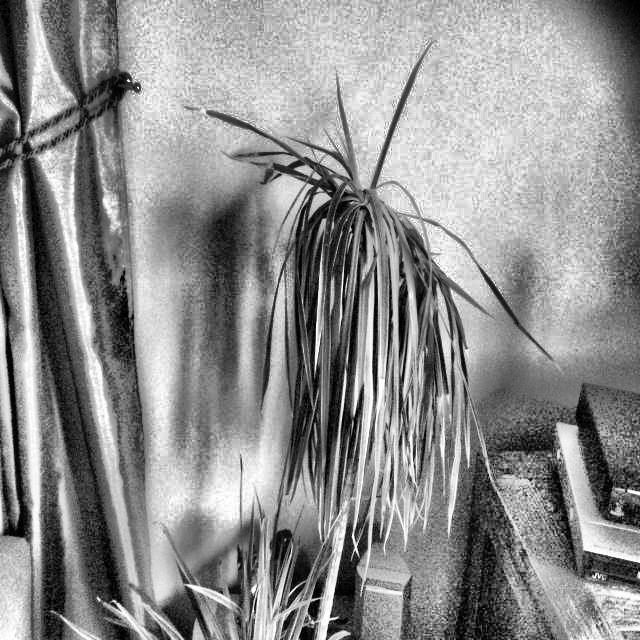plants: (277, 152, 473, 551)
